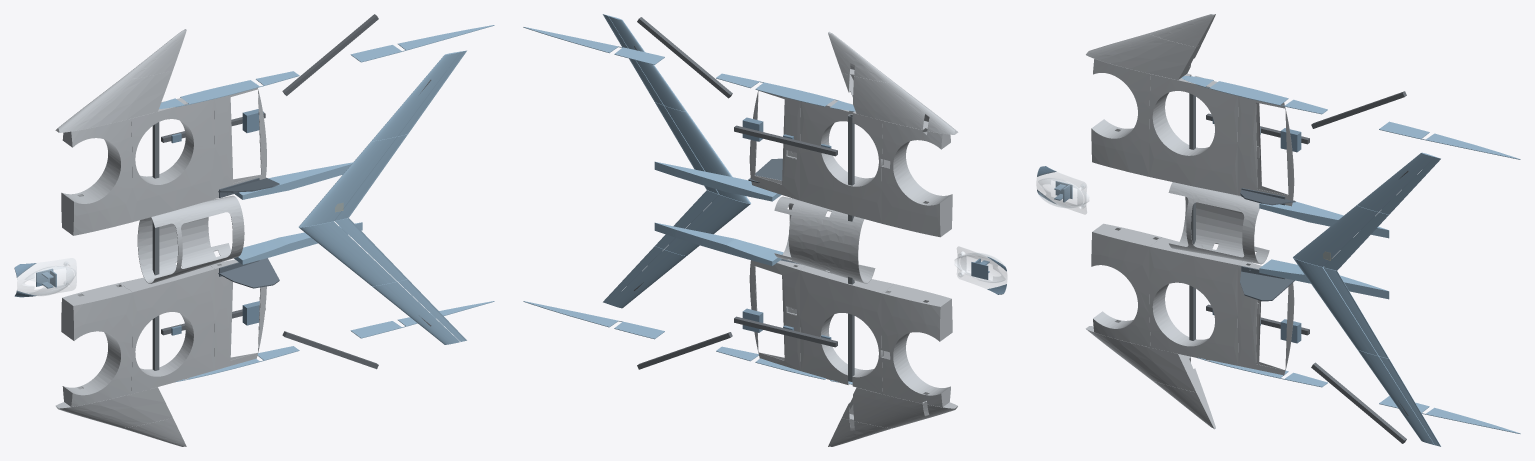
The model's file is v19f_swift_stoop.glb.
3 views of the same model, side by side, from view 1: azimuth 30°, elevation 25°; view 2: azimuth 150°, elevation 25°; view 3: azimuth 330°, elevation 25° (orthographic).
Visible parts, largest first — view 1: WLC_hollow_wing, WRC_hollow_wing, WLB_hollow_wing, F3_hollow_body, WRB_hollow_wing, WRE1_falcon_wing, WLE1_falcon_wing, WRD_hollow_wing, NEW_crest_R1, WLD_hollow_wing, NEW_crest_L1, NEW_canopy_clear_PETG (+19 smaller); view 2: WLC_hollow_wing, WRC_hollow_wing, WLB_hollow_wing, WRB_hollow_wing, F3_hollow_body, WRE1_falcon_wing, WLE1_falcon_wing, WLD_hollow_wing, WRD_hollow_wing, NEW_F5_root_fairing_L, NEW_F5_root_fairing_R, NEW_crest_R1 (+19 smaller); view 3: WLC_hollow_wing, WRC_hollow_wing, F3_hollow_body, WLB_hollow_wing, WRB_hollow_wing, WRE1_falcon_wing, WRD_hollow_wing, WLE1_falcon_wing, WLD_hollow_wing, NEW_crest_R1, NEW_crest_L1, NEW_canopy_clear_PETG (+19 smaller).
Part boxes in pixels (box(x1,y1,x2,y2)): WLC_hollow_wing: box(120, 265, 214, 393); WRC_hollow_wing: box(131, 98, 214, 221); WLB_hollow_wing: box(61, 283, 132, 406); F3_hollow_body: box(137, 195, 244, 283); WRB_hollow_wing: box(61, 118, 132, 235); WRE1_falcon_wing: box(55, 70, 172, 132); WLE1_falcon_wing: box(55, 387, 172, 427); WRD_hollow_wing: box(214, 83, 266, 198); NEW_crest_R1: box(299, 136, 396, 227); WLD_hollow_wing: box(210, 259, 266, 370); NEW_crest_L1: box(299, 221, 396, 285); NEW_canopy_clear_PETG: box(17, 258, 76, 295); WLC_hollow_wing: box(800, 266, 893, 394); WRC_hollow_wing: box(800, 100, 883, 223); WLB_hollow_wing: box(881, 284, 952, 407); WRB_hollow_wing: box(881, 121, 952, 237); F3_hollow_body: box(774, 196, 875, 283); WRE1_falcon_wing: box(841, 73, 958, 134); WLE1_falcon_wing: box(842, 387, 957, 428); WLD_hollow_wing: box(749, 260, 805, 370); WRD_hollow_wing: box(749, 90, 800, 200); NEW_F5_root_fairing_L: box(654, 222, 783, 265); NEW_F5_root_fairing_R: box(654, 161, 781, 201); NEW_crest_R1: box(664, 105, 750, 203); WLC_hollow_wing: box(1149, 237, 1242, 365); WRC_hollow_wing: box(1149, 73, 1238, 195); F3_hollow_body: box(1168, 182, 1269, 264); WLB_hollow_wing: box(1091, 223, 1161, 347); WRB_hollow_wing: box(1091, 59, 1150, 176); WRE1_falcon_wing: box(1086, 33, 1201, 79); WRD_hollow_wing: box(1237, 96, 1294, 206); WLE1_falcon_wing: box(1085, 326, 1202, 392); WLD_hollow_wing: box(1237, 261, 1294, 375); NEW_crest_R1: box(1293, 205, 1378, 266); NEW_crest_L1: box(1293, 258, 1378, 355); NEW_canopy_clear_PETG: box(1036, 171, 1088, 214).
Size of the model in its own units: 1154 by 954 by 151.
